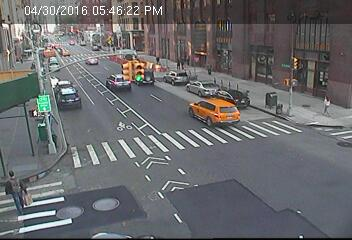neg: (168, 68, 184, 89), (268, 51, 281, 68), (274, 100, 287, 117)
pos: (319, 92, 337, 116), (201, 57, 215, 76)
